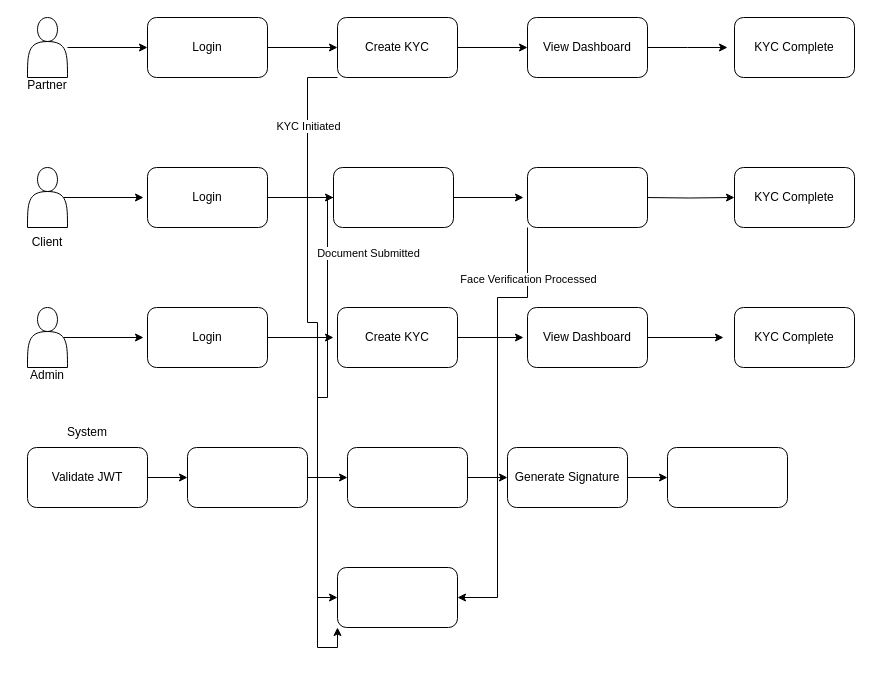
Some shapes in this 872 by 673 pixel diagram are drawn without their labels. The shapes that lost their labels are listed below. From the top down, each one's centre as x and y in pixels, then its label:
At pixel 393 197: "Upload Document".
At pixel 587 197: "Face Verification".
At pixel 247 477: "Check Rate Limit".
At pixel 407 477: "Validate Data".
At pixel 727 477: "Verify Signature".
At pixel 397 597: "Audit Log".
